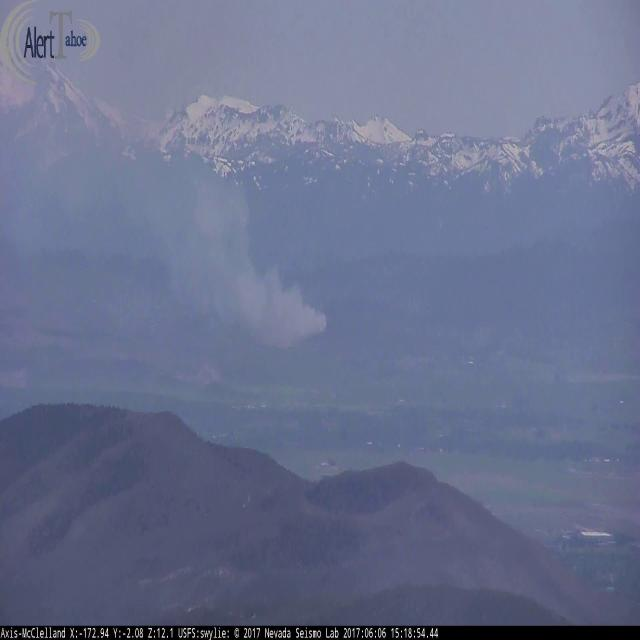smoke: (111, 154, 346, 352)
